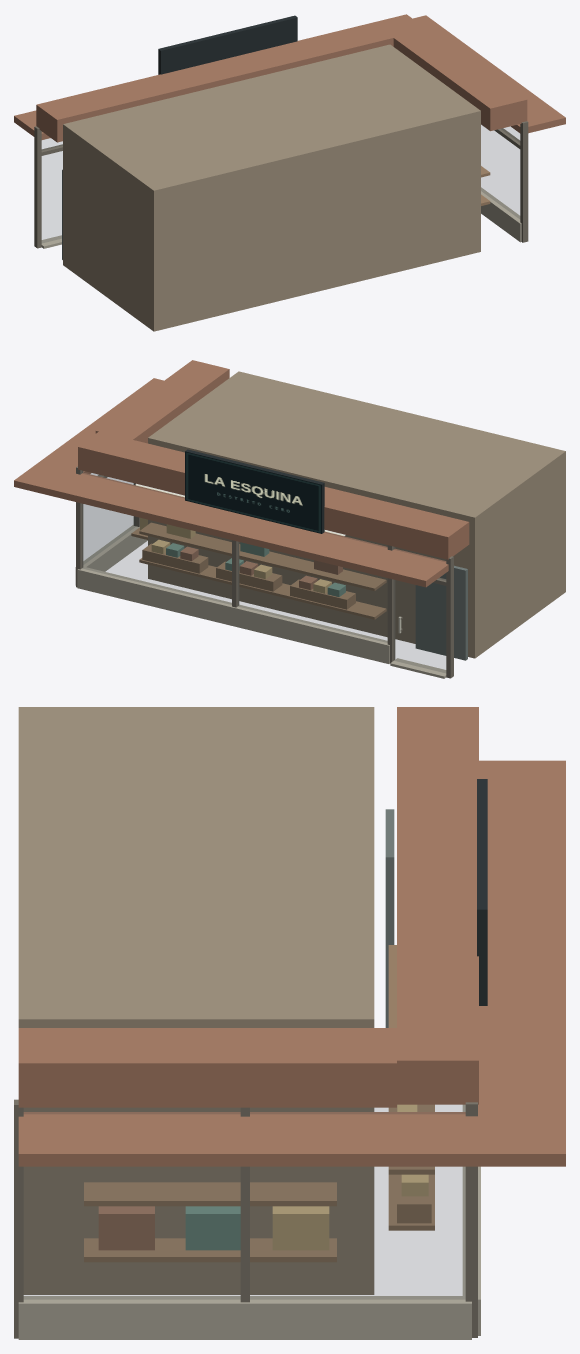
The model's file is escaparate-esquina.glb.
3 renders of one model, top to bottom at view 1: azimuth 30°, elevation 25°; view 2: azimuth 150°, elevation 25°; view 3: azimuth 270°, elevation 25°, orthographic. The views are drawn at different scales.
Visible parts, largest first — view 1: Fondo de exposición, Friso frontal, Friso lateral, Rótulo · carcasa, Cristal lateral, Visera lateral, Cristal frontal, Montante lateral 2, Antepecho lateral, Montante frontal 4, Visera frontal; view 2: Fondo de exposición, Cristal frontal, Visera frontal, Friso frontal, Antepecho frontal, Rótulo · cara impresa, Friso lateral, Hoja de puerta, Balda frontal superior, Visera lateral, Balda frontal inferior, Antepecho lateral (+9 smaller); view 3: Fondo de exposición, Cristal lateral, Visera frontal, Friso frontal, Friso lateral, Visera lateral, Antepecho lateral, Balda lateral superior, Balda lateral inferior, Producto lateral 1, Producto lateral 3, Producto lateral 2 (+9 smaller).
Part boxes in pixels (left/top/right/bottom): Fondo de exposición: left=63, top=44, right=480, bottom=331; Friso frontal: left=36, top=14, right=426, bottom=142; Friso lateral: left=393, top=29, right=527, bottom=131; Rótulo · carcasa: left=158, top=15, right=297, bottom=74; Cristal lateral: left=481, top=125, right=519, bottom=218; Visera lateral: left=441, top=34, right=565, bottom=133; Cristal frontal: left=42, top=139, right=62, bottom=242; Montante lateral 2: left=520, top=121, right=528, bottom=242; Antepecho lateral: left=481, top=187, right=521, bottom=242; Montante frontal 4: left=34, top=126, right=41, bottom=248; Visera frontal: left=14, top=15, right=450, bottom=139; Fondo de exposición: left=148, top=371, right=565, bottom=658; Cristal frontal: left=82, top=471, right=445, bottom=672; Visera frontal: left=14, top=462, right=448, bottom=587; Friso frontal: left=78, top=431, right=469, bottom=559; Antepecho frontal: left=77, top=566, right=389, bottom=663; Rótulo · cara impresa: left=185, top=451, right=321, bottom=533; Friso lateral: left=95, top=360, right=229, bottom=443; Hoja de puerta: left=415, top=565, right=467, bottom=660; Balda frontal superior: left=139, top=522, right=386, bottom=590; Visera lateral: left=40, top=378, right=163, bottom=473; Balda frontal inferior: left=139, top=558, right=386, bottom=619; Antepecho lateral: left=75, top=525, right=147, bottom=585; Fondo de exposición: left=18, top=707, right=374, bottom=1294; Cristal lateral: left=24, top=1105, right=464, bottom=1298; Visera frontal: left=466, top=760, right=565, bottom=1166; Friso frontal: left=397, top=707, right=478, bottom=1104; Friso lateral: left=18, top=1028, right=396, bottom=1107; Visera lateral: left=18, top=1112, right=466, bottom=1166; Antepecho lateral: left=18, top=1296, right=471, bottom=1339; Balda lateral superior: left=84, top=1182, right=336, bottom=1206; Balda lateral inferior: left=84, top=1238, right=336, bottom=1262; Producto lateral 1: left=272, top=1206, right=329, bottom=1250; Producto lateral 3: left=98, top=1206, right=154, bottom=1250; Producto lateral 2: left=185, top=1206, right=240, bottom=1250.
Size of the model in its own units: 10.74 by 4.08 by 6.34.
15 materials, 1 textured.
